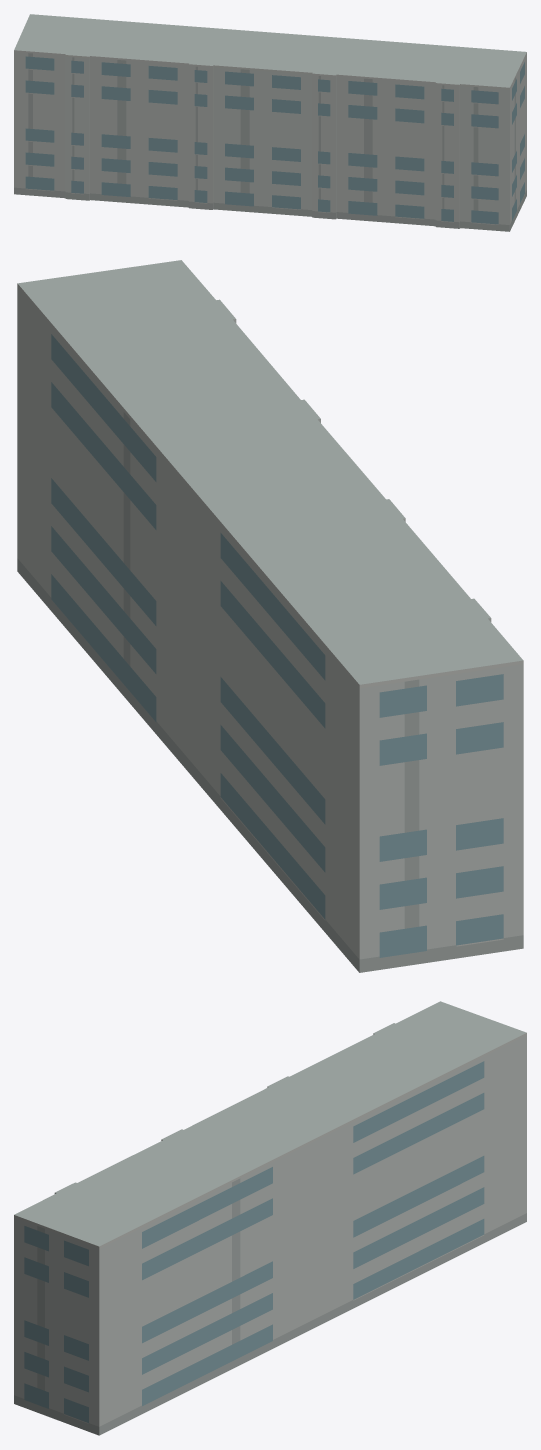
Rendered from survey-upis-32951811.glb.
3 views of the same model, one above another, from view 1: azimuth 30°, elevation 25°; view 2: azimuth 150°, elevation 25°; view 3: azimuth 270°, elevation 25° (orthographic). The views are drawn at different scales.
Visible parts, largest first — view 1: survey-upis-32951811.tmp; view 2: survey-upis-32951811.tmp; view 3: survey-upis-32951811.tmp.
Boxes of the visible parts, box(x1,y1,x2,y2) form: survey-upis-32951811.tmp: box(14, 14, 526, 231); survey-upis-32951811.tmp: box(17, 260, 523, 972); survey-upis-32951811.tmp: box(14, 1001, 526, 1435).
Size of the model in its own units: 54.45 by 19.57 by 48.12.
